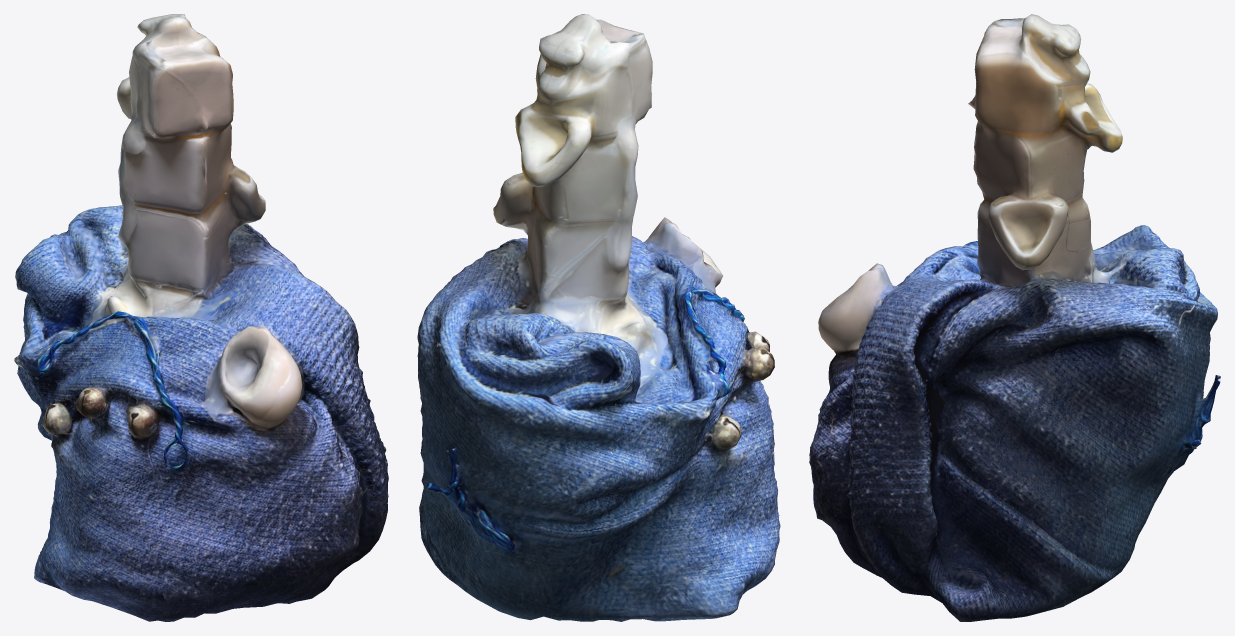
The picture shows the model from 3 angles, left to right: view 1: azimuth 30°, elevation 25°; view 2: azimuth 150°, elevation 25°; view 3: azimuth 270°, elevation 25°; orthographic projection. The views are drawn at different scales.
Parts seen in each view (by area): view 1: P4; view 2: P4; view 3: P4.
Boxes of the visible parts, left/top/right/bottom form: P4: left=14, top=14, right=388, bottom=621; P4: left=417, top=14, right=780, bottom=621; P4: left=809, top=14, right=1220, bottom=621.
Bounding box in the file's own units: 0.309 × 0.5126 × 0.3559.
1 material, 1 textured.
